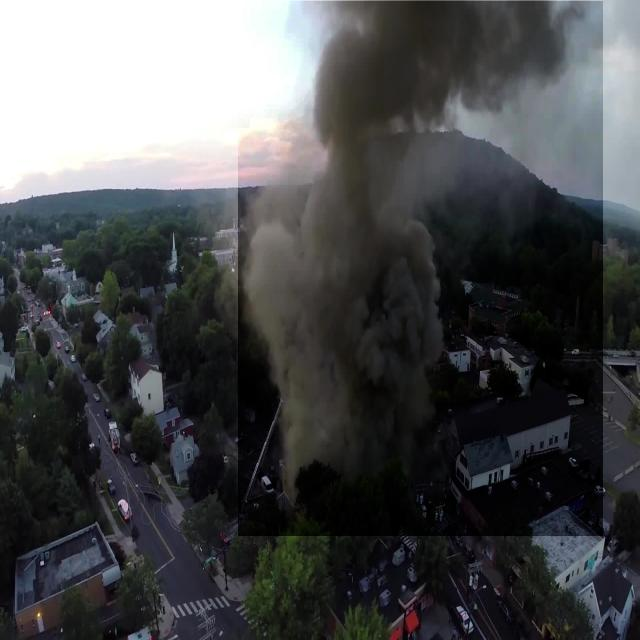Smoke: (238, 1, 603, 536)
